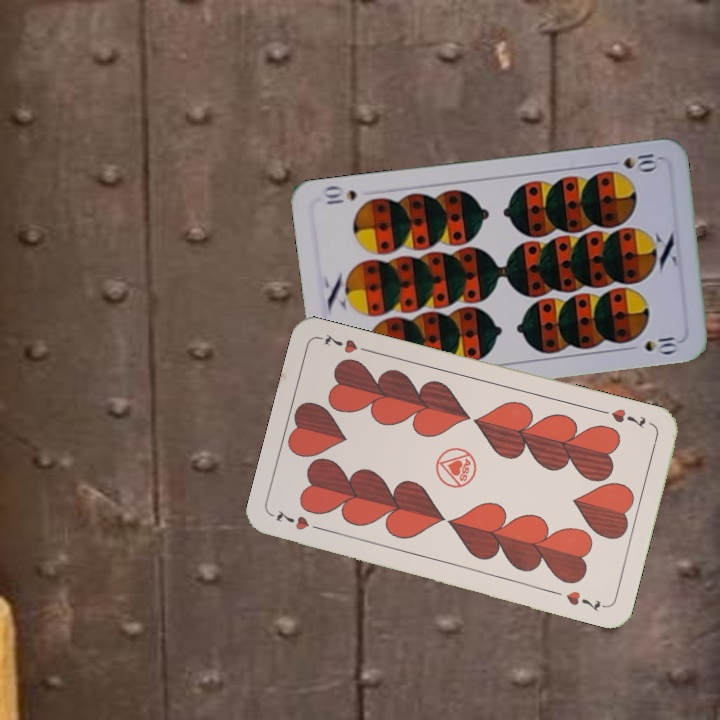H7: (269, 507, 327, 534), (596, 404, 649, 432)
S10: (603, 149, 662, 173)
